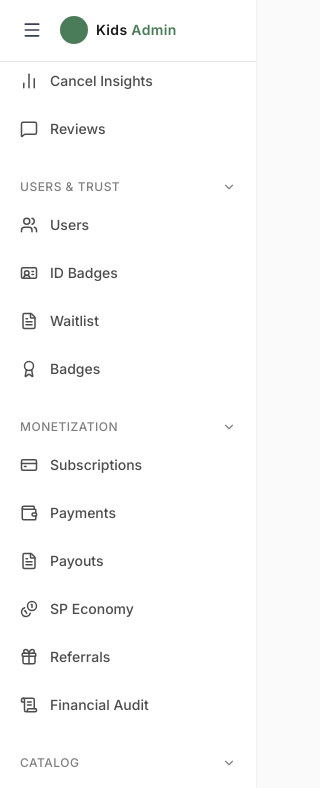
it: Sidebar grouped navigation › collapses and re-expands a section via its header
(page scrolled)
Expected: the text "Subscriptions" is shown, [50,456,142,473]
Click the button with test id "nav-section-monetization" at (128, 427), box [8,413,248,441]
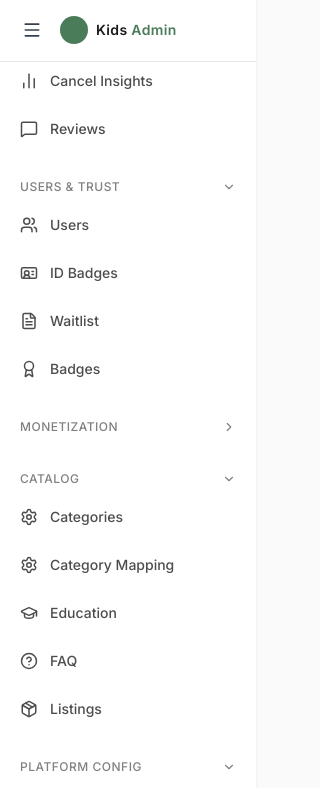
Expected: the link "Subscriptions" is gone
Click the button with test id "nav-section-monetization" at (128, 427), box [8,413,248,441]
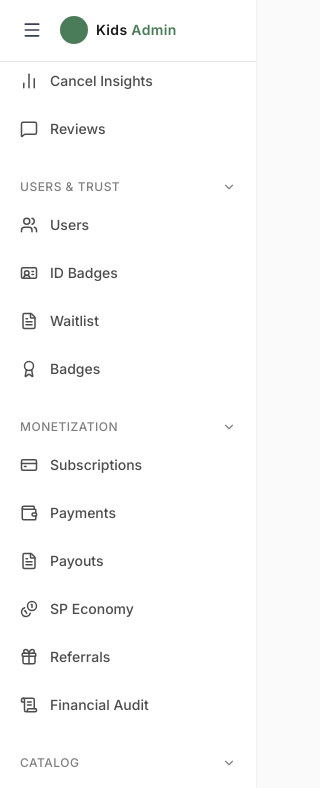
Expected: the text "Subscriptions" is shown, [50,456,142,473]
